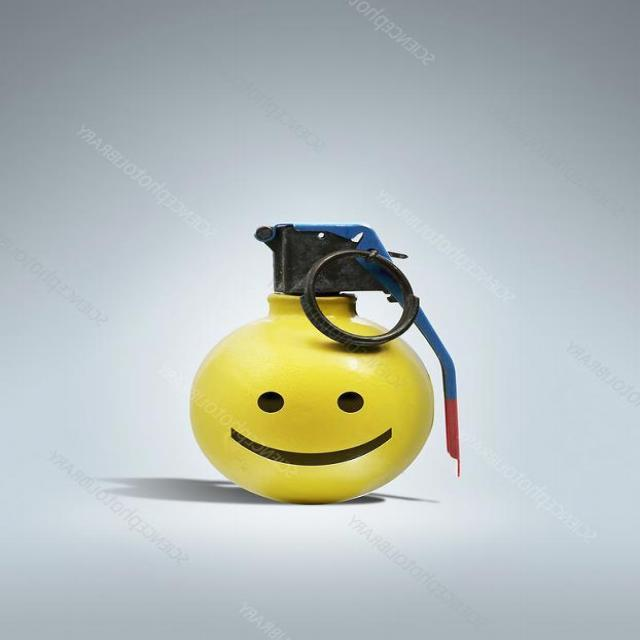Grenade: (188, 220, 462, 506)
